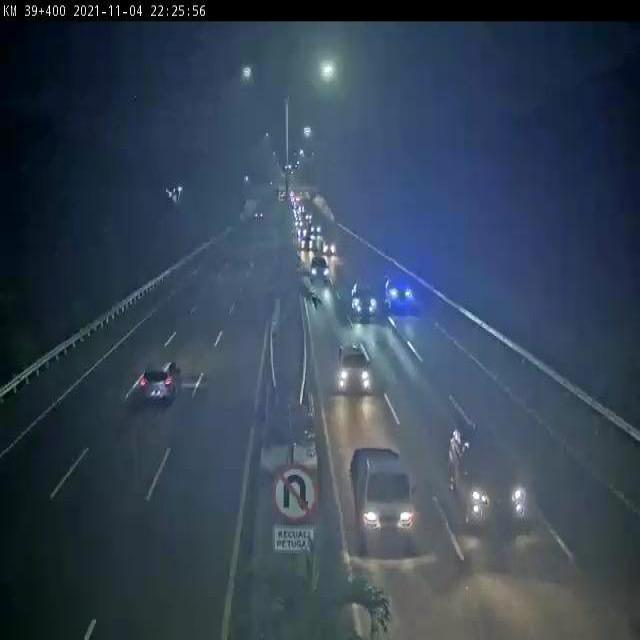car: (130, 355, 179, 412), (334, 340, 374, 400), (307, 250, 334, 286)
truck-s-: (343, 442, 424, 546)
